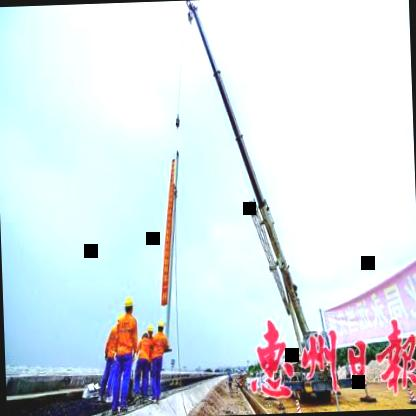helmet: (124, 296, 134, 319), (146, 323, 156, 341), (155, 320, 165, 337)
